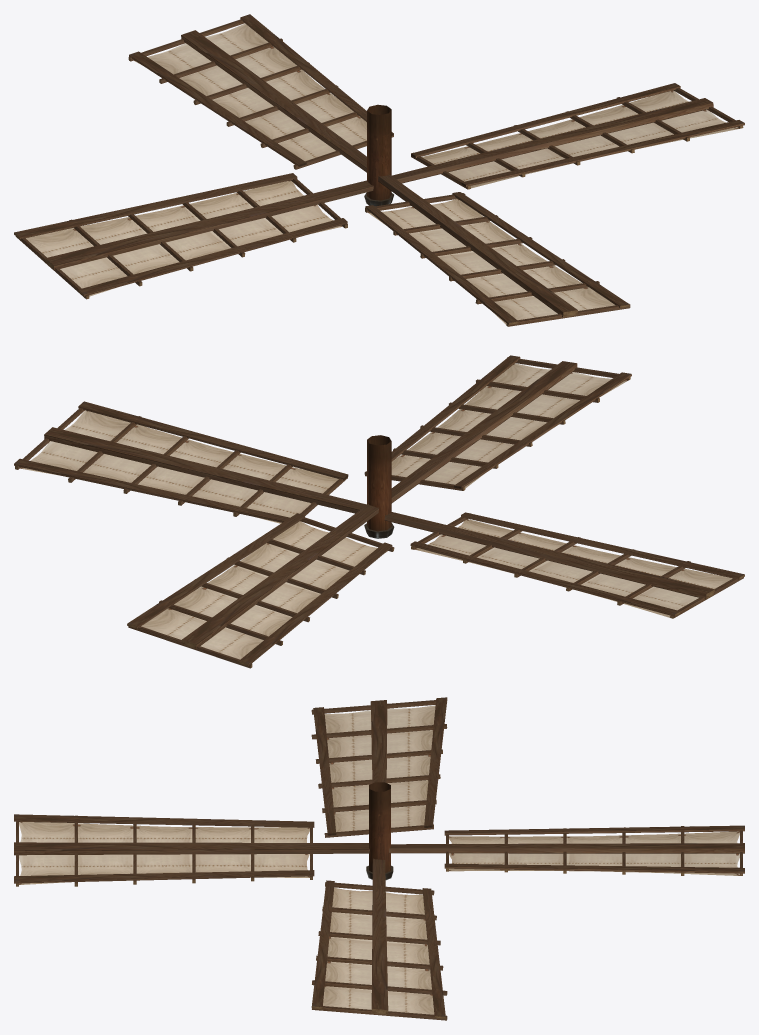
File: Windmill_blade.fbx
The picture shows the model from 3 angles, top to bottom: view 1: azimuth 30°, elevation 25°; view 2: azimuth 150°, elevation 25°; view 3: azimuth 270°, elevation 25°; orthographic projection. The views are drawn at different scales.
Visible parts, largest first — view 1: Windmill_blade_LOD0; view 2: Windmill_blade_LOD0; view 3: Windmill_blade_LOD0.
Boxes of the visible parts, left/top/right/bottom form: Windmill_blade_LOD0: left=14, top=14, right=744, bottom=326; Windmill_blade_LOD0: left=14, top=355, right=744, bottom=668; Windmill_blade_LOD0: left=14, top=697, right=744, bottom=1020.
Size of what is drawn, in the model's own units: 25.49 by 3.43 by 25.49.
